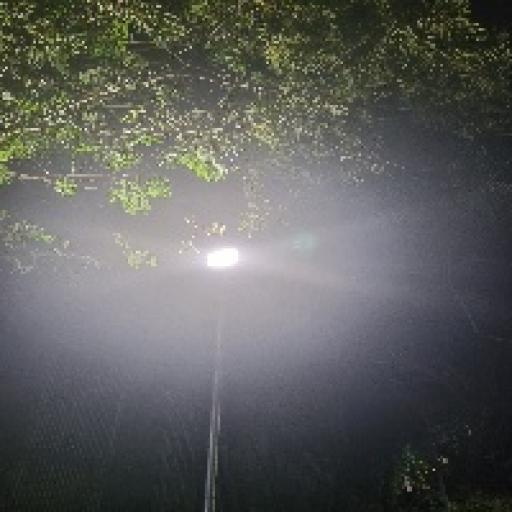Working: (189, 241, 254, 282)
